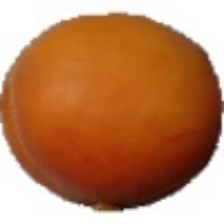apricot: (9, 33, 207, 203)
